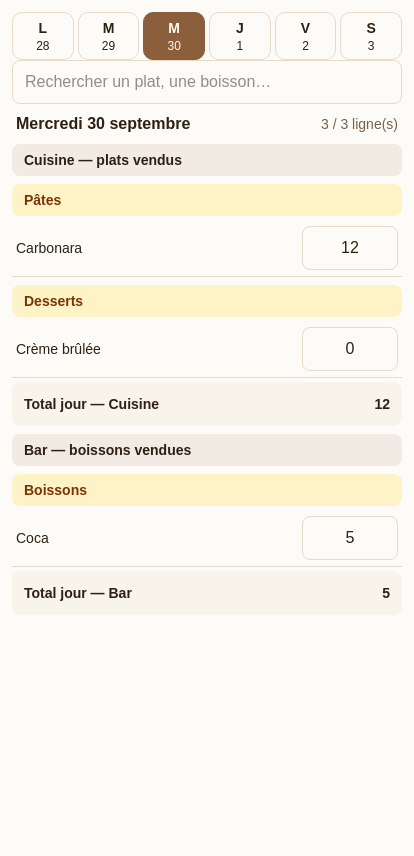
Test: Rapport journalier sur téléphone — la liste du jour › un jour clôturé est en lecture seule, annoncé, et n'envoie rien
The image size is (414, 856).
Click the button "L 28" at x=43, y=36, box [12,12,74,60]
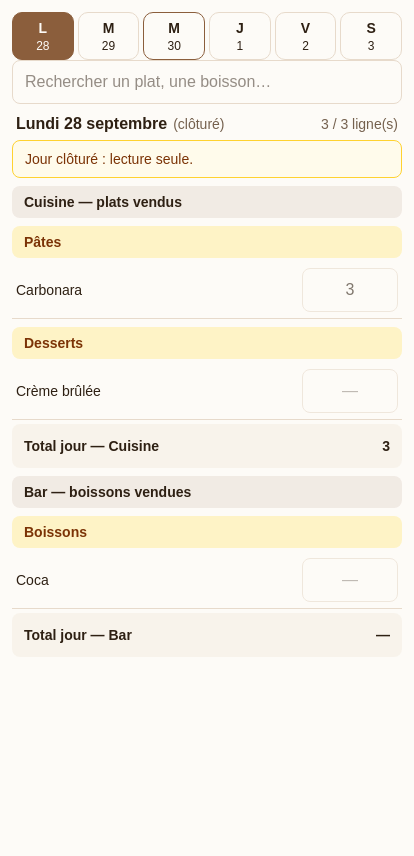
Check: the element that starts with "lundi 28 septembre" shows "(clôturé)", box [173,116,225,132]
Check: the element that starts with "lundi 28 septembre" shows "lecture seule", box [25,151,193,167]
